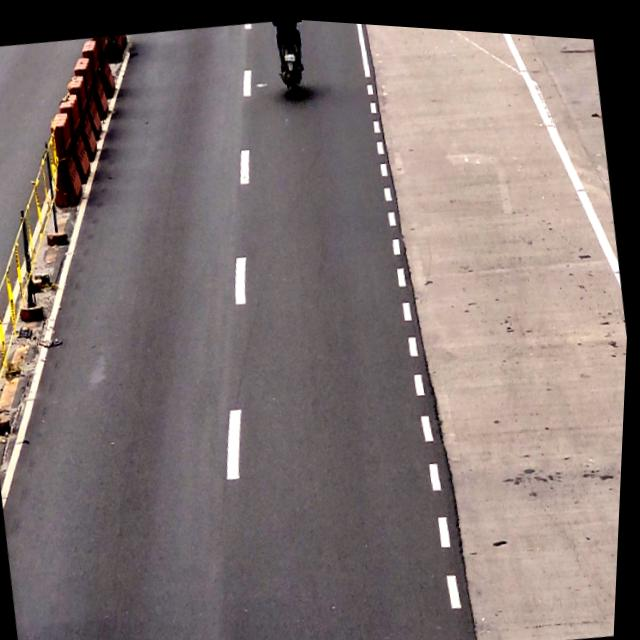Motorcycle: (269, 14, 316, 102)
